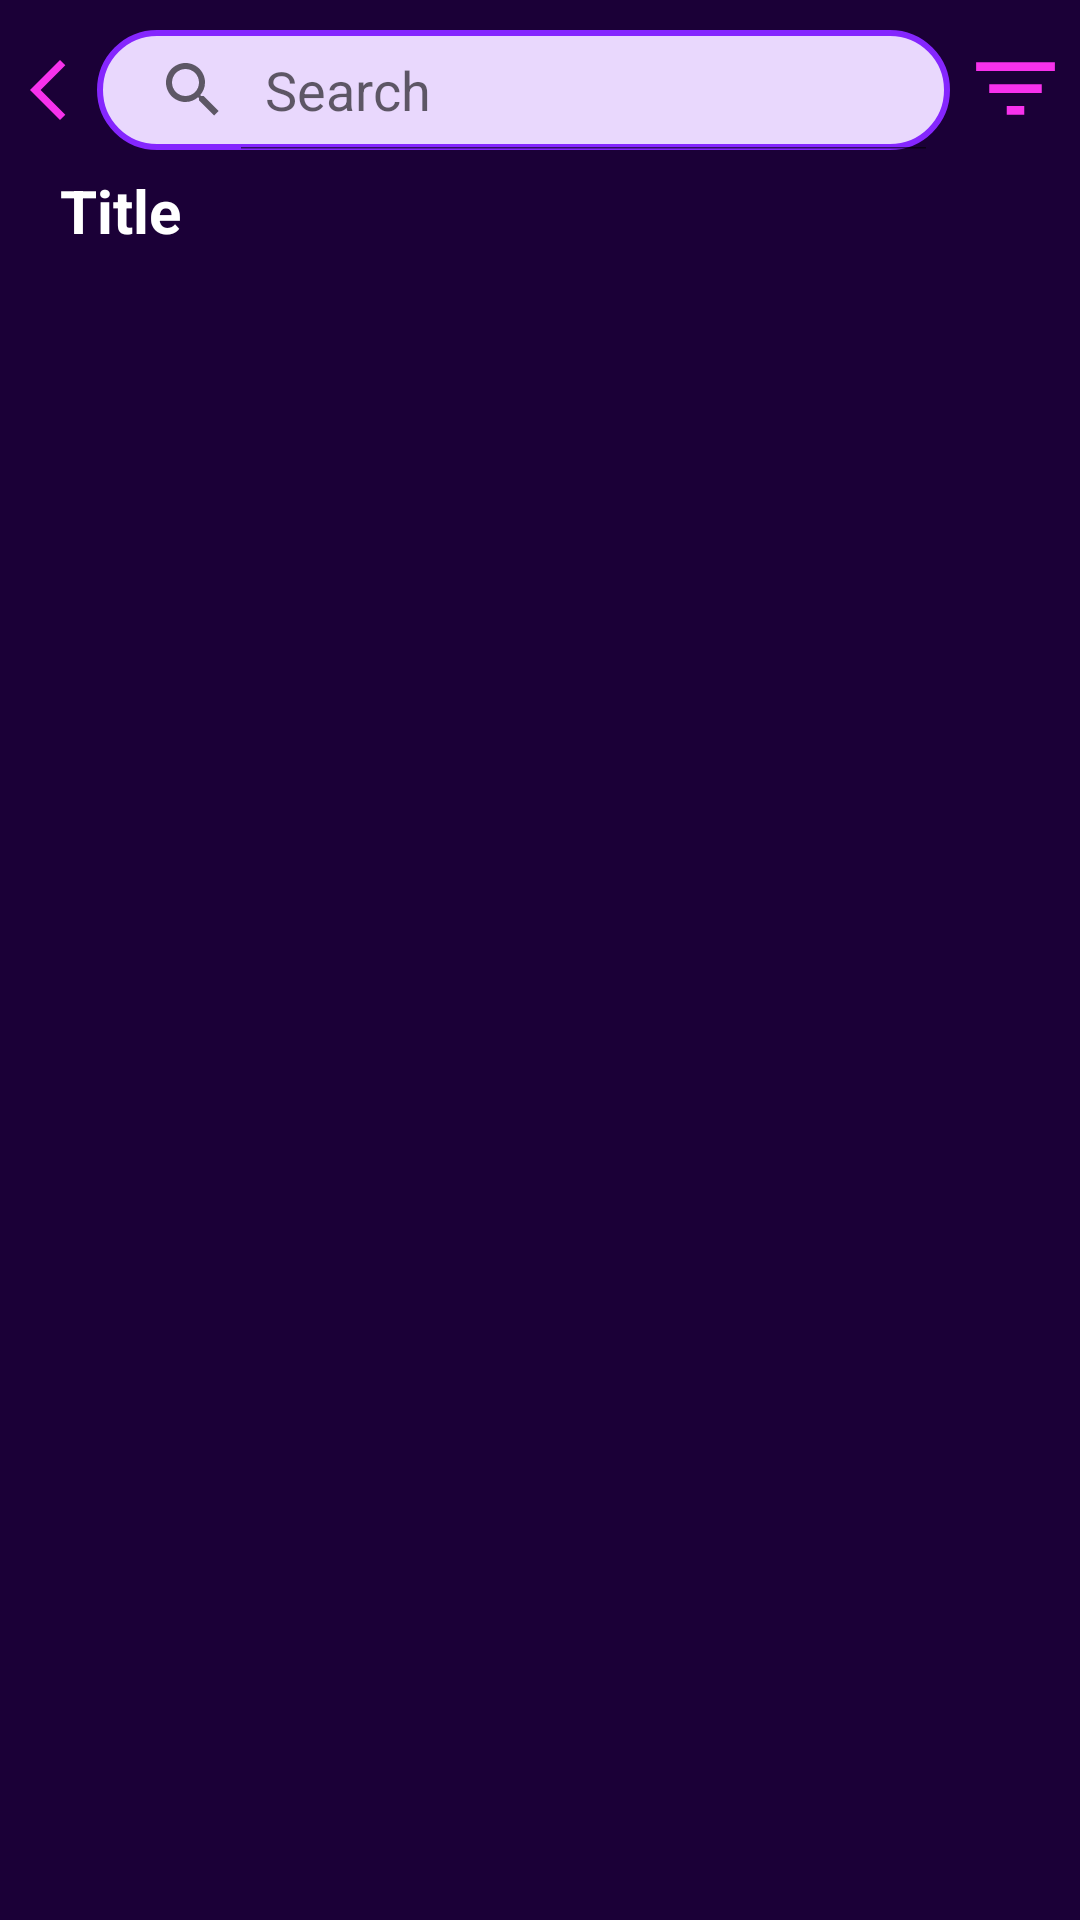

Where icons sit on this 1080px×1920px app screen, as bbox(x1, y1, x2, y2):
arrow back: bbox(30, 60, 65, 120)
filter list: bbox(976, 62, 1055, 115)
